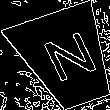N_S: (33, 28, 100, 90)
